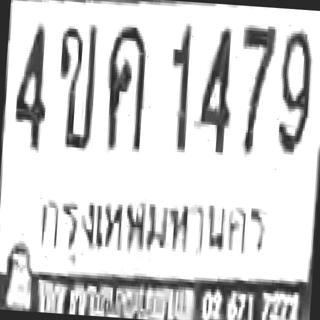A02: (52, 20, 98, 148)
A04: (100, 22, 148, 148)
N01: (164, 22, 192, 150)
N04: (194, 23, 235, 151), (12, 18, 49, 149)
N07: (234, 22, 275, 153)
N09: (274, 27, 313, 153)
P04: (30, 182, 271, 271)
